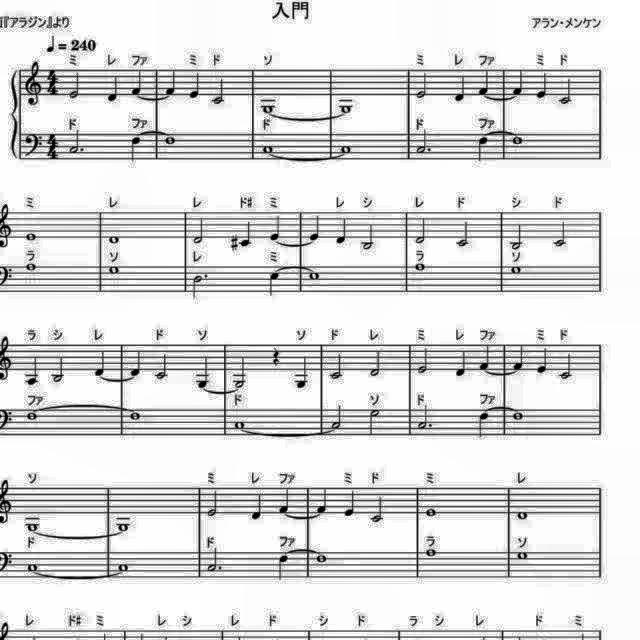Bass-clef: (23, 130, 45, 160)
Diez: (228, 232, 242, 254)
Full-note: (112, 516, 134, 536), (22, 558, 42, 574), (24, 518, 44, 534), (338, 99, 357, 115), (105, 261, 121, 279), (128, 408, 144, 424), (114, 558, 130, 574), (23, 408, 39, 424), (261, 101, 279, 115), (24, 230, 40, 244), (510, 133, 526, 147), (516, 549, 532, 563), (106, 234, 122, 248), (162, 134, 178, 148), (338, 142, 354, 156), (261, 141, 277, 155), (24, 259, 38, 273), (515, 510, 531, 522), (413, 262, 429, 274), (511, 410, 527, 422), (422, 548, 438, 560), (232, 418, 248, 430), (312, 554, 328, 566), (424, 508, 438, 520), (308, 270, 322, 282), (511, 266, 525, 278)
Half-dot: (189, 271, 209, 301), (204, 544, 223, 574), (414, 128, 434, 156), (66, 128, 85, 156), (416, 404, 434, 432)
Half-note: (232, 356, 252, 390), (453, 218, 473, 250), (368, 492, 386, 524), (552, 216, 570, 248), (557, 77, 575, 107), (557, 350, 575, 380), (50, 355, 68, 385), (359, 221, 377, 251), (211, 75, 229, 105), (151, 350, 169, 380), (329, 352, 347, 382), (414, 68, 430, 100), (192, 214, 208, 246), (413, 214, 429, 246), (205, 490, 222, 520), (509, 222, 526, 252), (366, 407, 382, 437), (416, 345, 432, 375), (67, 72, 83, 102), (366, 347, 382, 377), (329, 402, 346, 430)
Quarter-note: (292, 354, 312, 392), (192, 356, 212, 390), (23, 356, 42, 388), (248, 492, 266, 524), (186, 70, 202, 102), (239, 219, 255, 251), (342, 488, 358, 520), (105, 74, 121, 106), (266, 270, 284, 298), (534, 345, 550, 375), (128, 347, 144, 377), (512, 69, 528, 99), (308, 213, 324, 243), (452, 75, 468, 105), (314, 485, 330, 515), (276, 551, 292, 581), (164, 67, 180, 96), (93, 348, 109, 377), (476, 409, 492, 438), (477, 70, 493, 98), (535, 70, 549, 102), (454, 348, 468, 380), (268, 214, 284, 242), (130, 70, 146, 98), (478, 342, 494, 370), (276, 486, 292, 514), (336, 214, 350, 246), (512, 343, 528, 371), (476, 134, 492, 162), (129, 134, 143, 164)
Quarter-rest: (268, 344, 284, 368)
Treble-clef: (23, 58, 45, 108)
